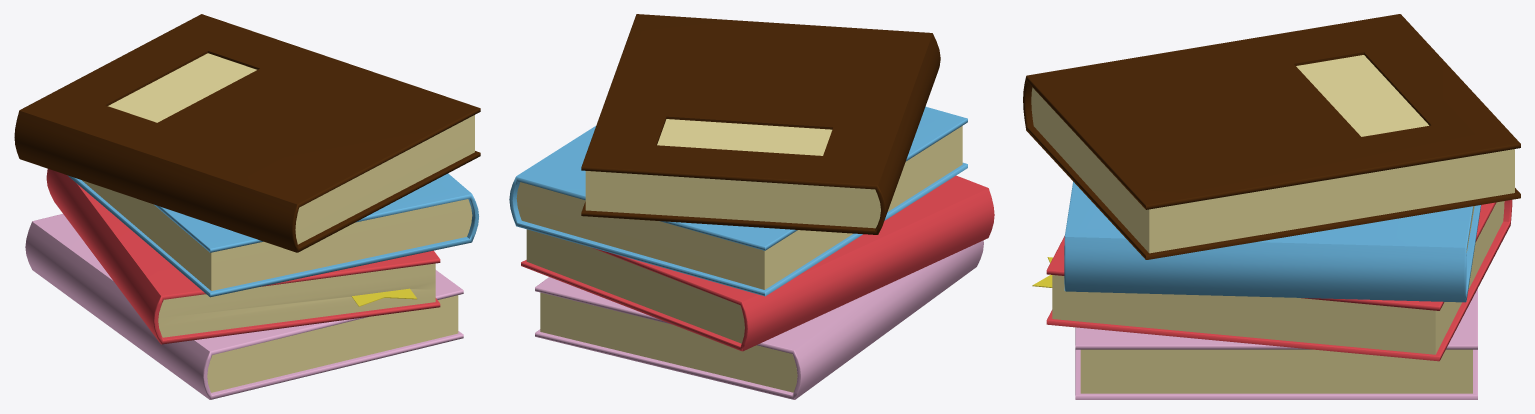
Rendered from book.fbx.
The picture shows the model from 3 angles, left to right: view 1: azimuth 30°, elevation 25°; view 2: azimuth 150°, elevation 25°; view 3: azimuth 270°, elevation 25°; orthographic projection. The views are drawn at different scales.
Visible parts, largest first — view 1: Cube.003, Cube, Cube.001, Cube.002; view 2: Cube.003, Cube.001, Cube.002, Cube; view 3: Cube.003, Cube.002, Cube, Cube.001.
Boxes of the visible parts, x1,y1,x2,y2 form: Cube.003: [14, 14, 480, 252]; Cube: [25, 214, 463, 399]; Cube.001: [46, 169, 440, 344]; Cube.002: [67, 173, 478, 297]; Cube.003: [581, 14, 940, 234]; Cube.001: [521, 175, 994, 351]; Cube.002: [509, 106, 967, 296]; Cube: [535, 240, 983, 399]; Cube.003: [1023, 14, 1520, 259]; Cube.002: [1064, 181, 1481, 302]; Cube: [1075, 288, 1477, 399]; Cube.001: [1032, 200, 1512, 361].
Bounding box in the file's own units: 297 × 156 × 320.
